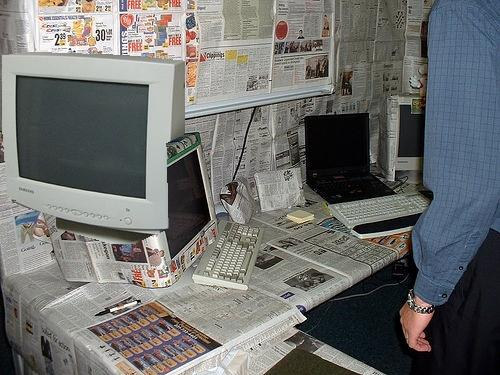tampered: (3, 53, 185, 244)
